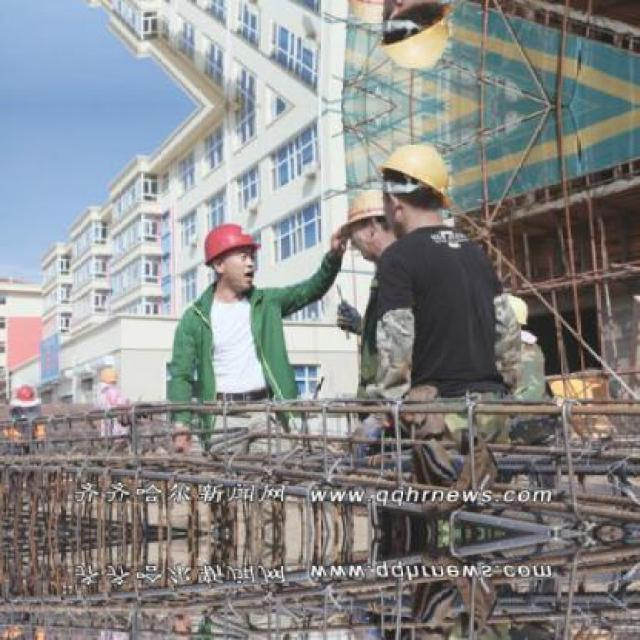hat: (377, 134, 456, 204), (192, 213, 263, 273), (336, 188, 396, 234)
